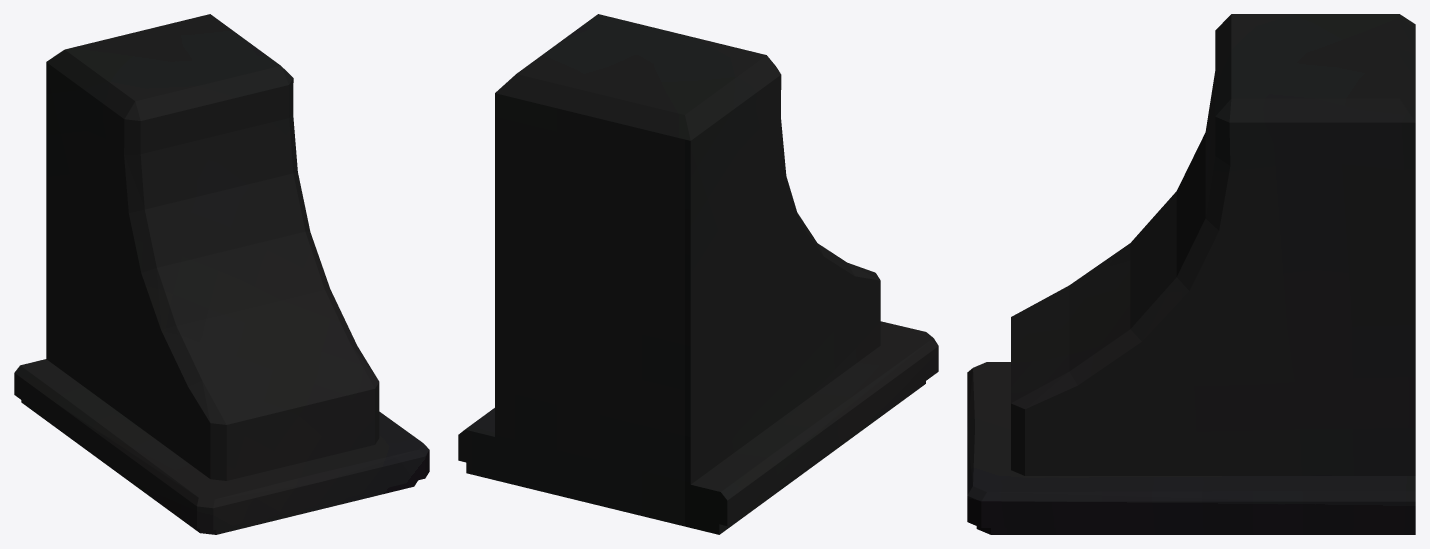
Rendered from Highway_Segment_TrafficBarrier01.fbx.
3 views of the same model, side by side, from view 1: azimuth 30°, elevation 25°; view 2: azimuth 150°, elevation 25°; view 3: azimuth 270°, elevation 25° (orthographic). The views are drawn at different scales.
Parts seen in each view (by area): view 1: SM_City_Highway_TrafficBarrier_01a_01.mo; view 2: SM_City_Highway_TrafficBarrier_01a_01.mo; view 3: SM_City_Highway_TrafficBarrier_01a_01.mo.
Part boxes in pixels (left/top/right/bottom): SM_City_Highway_TrafficBarrier_01a_01.mo: left=14, top=14, right=429, bottom=534; SM_City_Highway_TrafficBarrier_01a_01.mo: left=458, top=14, right=938, bottom=534; SM_City_Highway_TrafficBarrier_01a_01.mo: left=967, top=14, right=1415, bottom=534.
Bounding box in the file's own units: 87.51 × 125 × 123.
